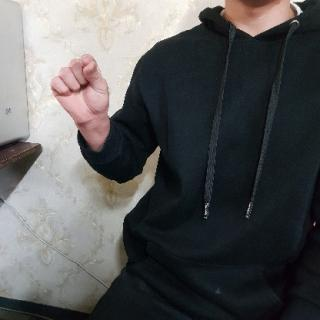FAA: (48, 50, 113, 131)
